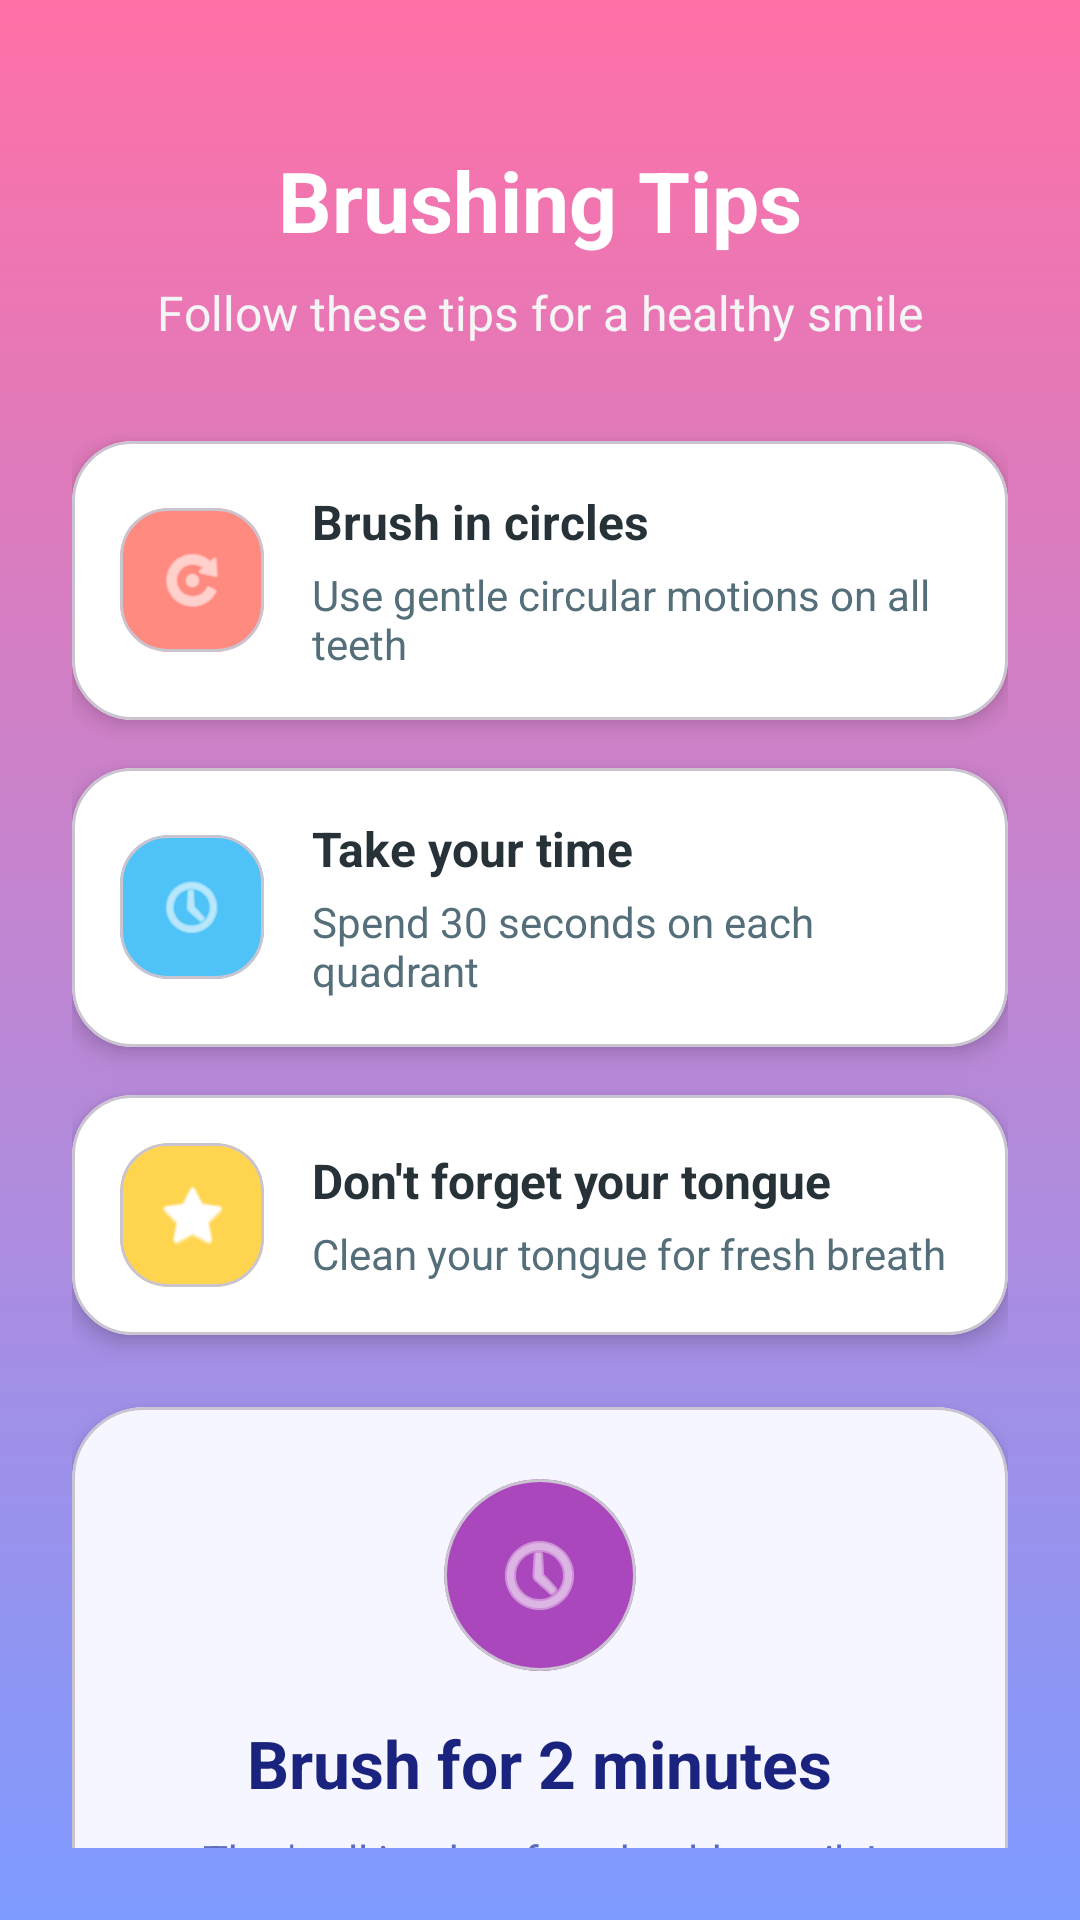

Where icons sit on this 1080w x 1920h app screen, as (x1, y1, x2, y2):
recent history: (166, 881, 218, 933), (505, 1541, 574, 1610)
rotate: (166, 554, 218, 607)
star on: (163, 1186, 223, 1245)
